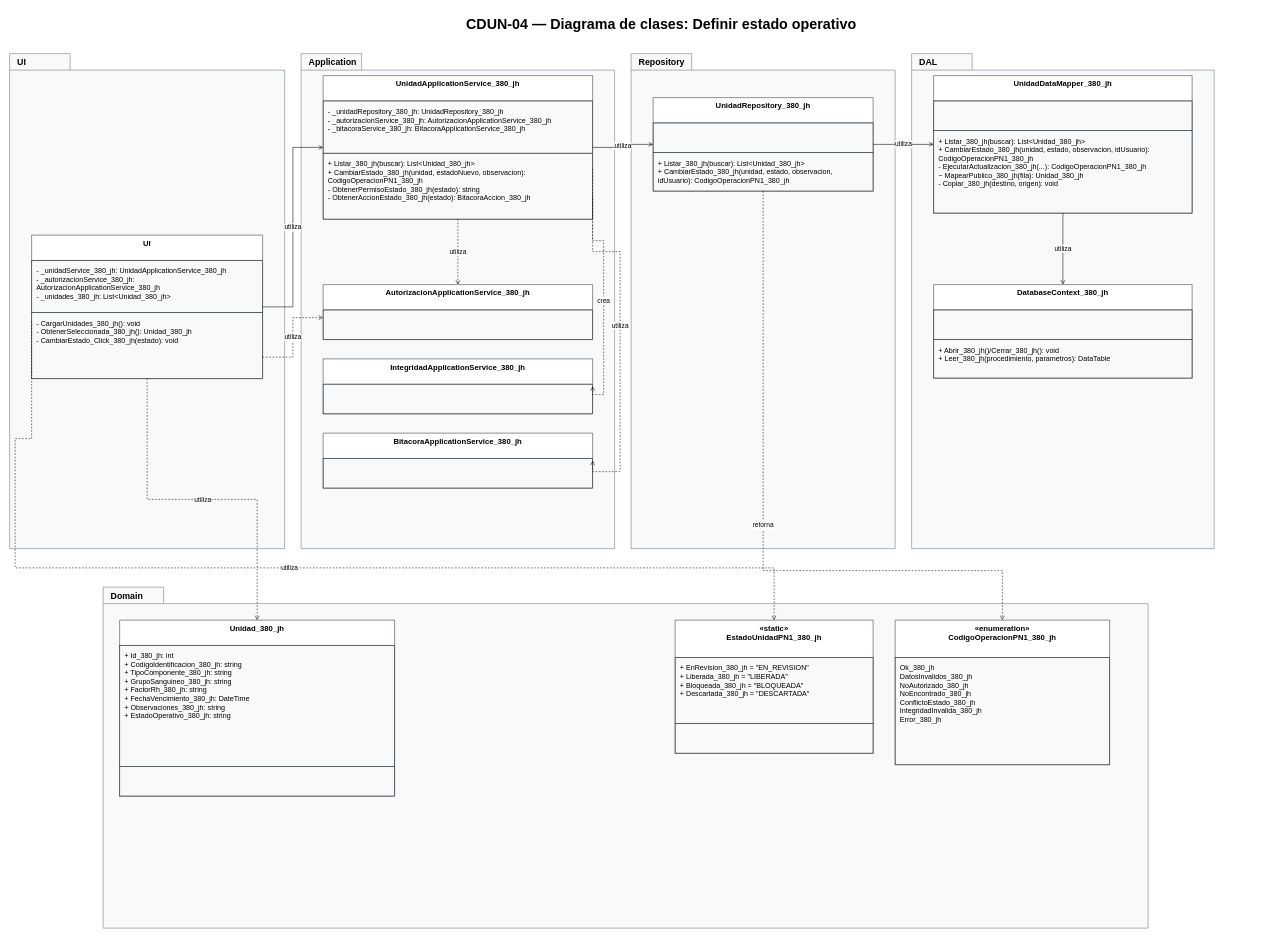
The diagram is 1262 pixels wide and 938 high, and some of its shapes have lost their labels. The shapes that lost their labels are listed below. From the top down, each one's centre as x and y in pixels, then its label:
At point 1062,115: "- _databaseContext_380_jh: DatabaseContext_380_jh".
At point 763,137: "- _unidadDataMapper_380_jh: UnidadDataMapper_380_jh".
At point 458,324: "+ TienePermiso_380_jh(usuario, codigo): bool".
At point 1062,324: "+ Conexion_380_jh: SqlConnection".
At point 458,399: "+ Verificar_380_jh(): InformeIntegridad_380_jh".
At point 458,473: "+ RegistrarEvento_380_jh(...): bool".
At point 774,738: "+ EsEstadoFinal_380_jh(estado): bool".
At point 257,781: "+ EstaClasificada_380_jh: bool".
